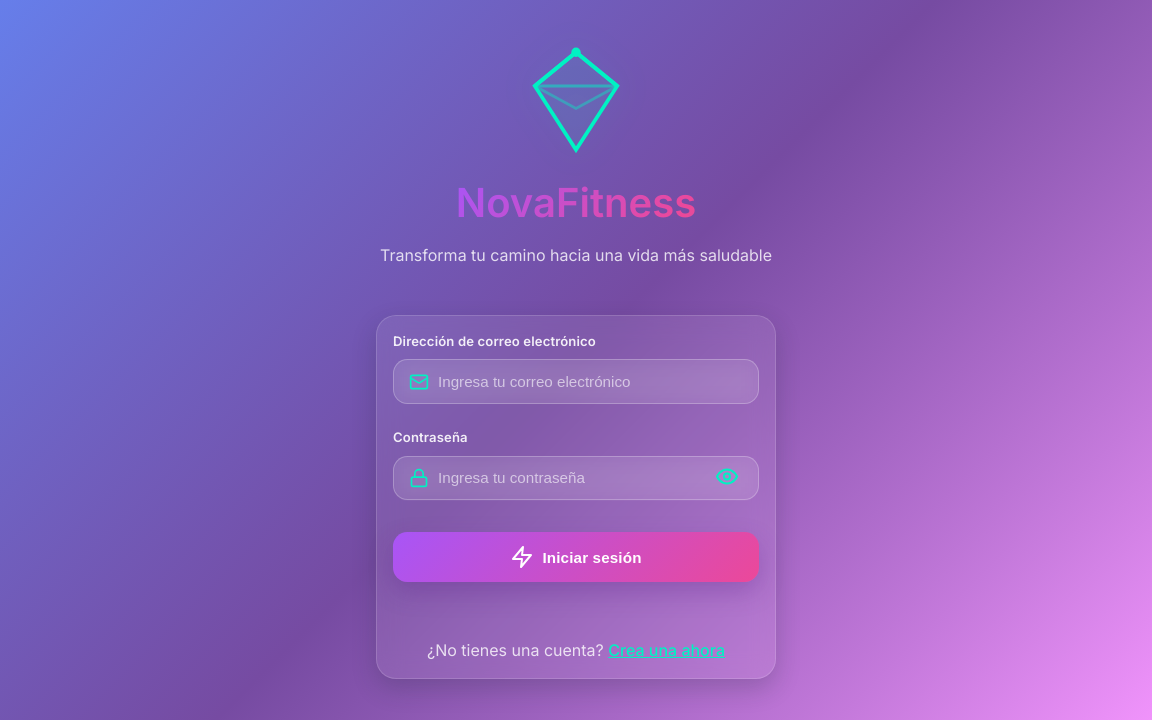
Test case: Login Page - Regression Tests › shows loading state during authentication
Type "test@example.com" into the field labelled "Dirección de correo electrónico" at (576, 382), box [393,359,759,404]
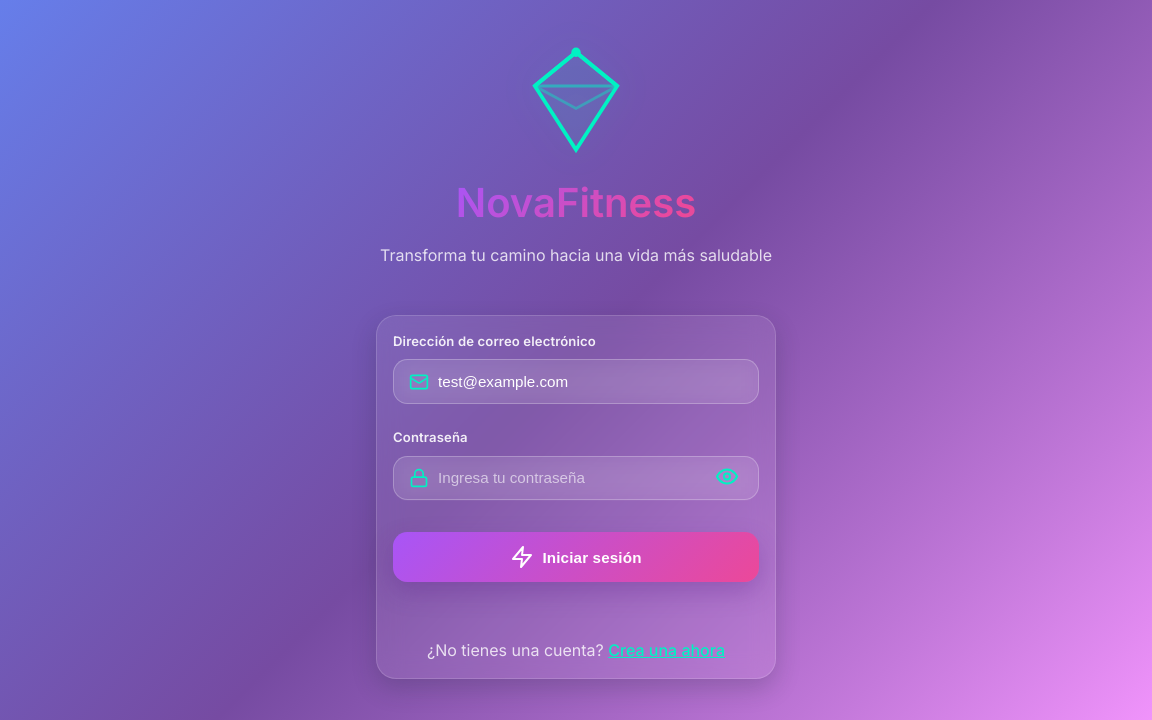
Type "password123" into the password field labelled "Contraseña" at (576, 478), box [393,456,759,500]
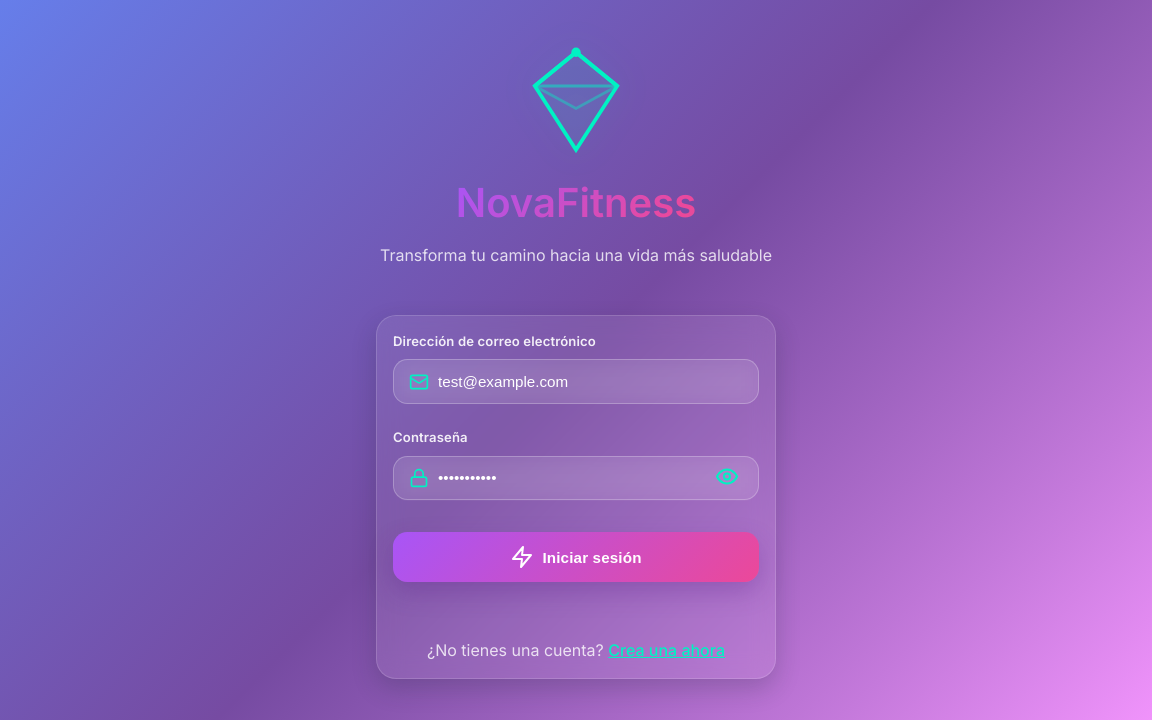
Click the button "Iniciar sesión" at (576, 557), box [393,532,759,582]
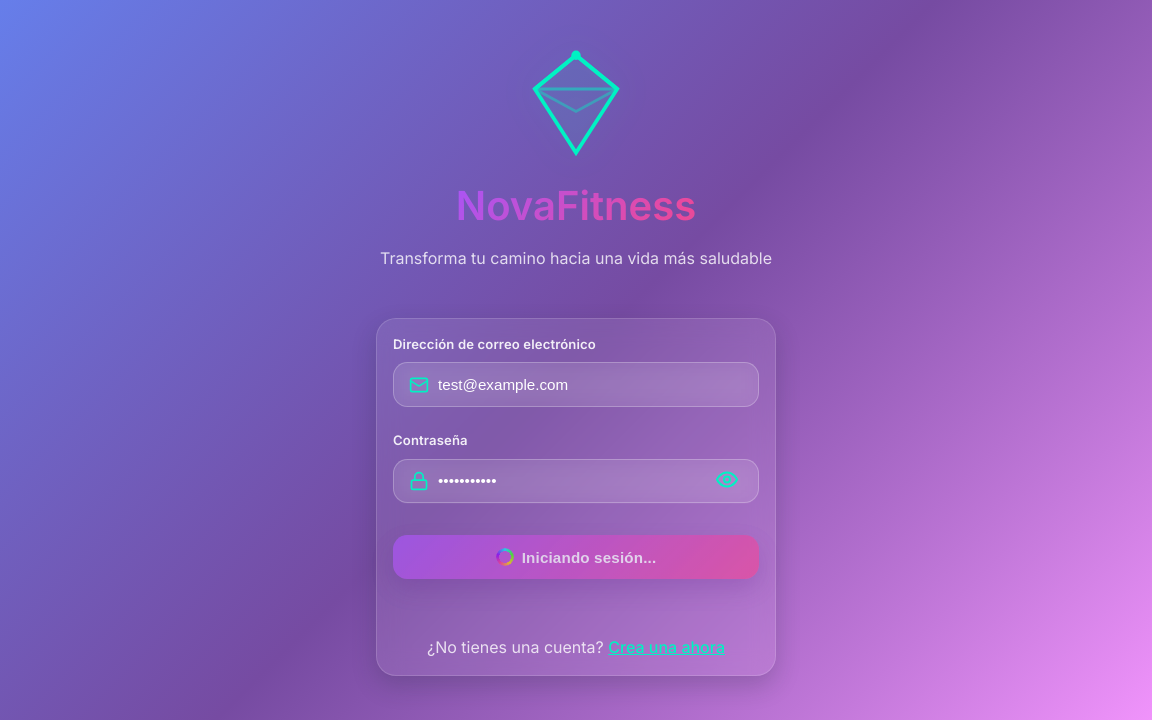
Now the button "Iniciando sesión..." is disabled, box [393,535,759,579]
Now the field labelled "Dirección de correo electrónico" is disabled, box [393,362,759,407]
Now the password field labelled "Contraseña" is disabled, box [393,459,759,503]
